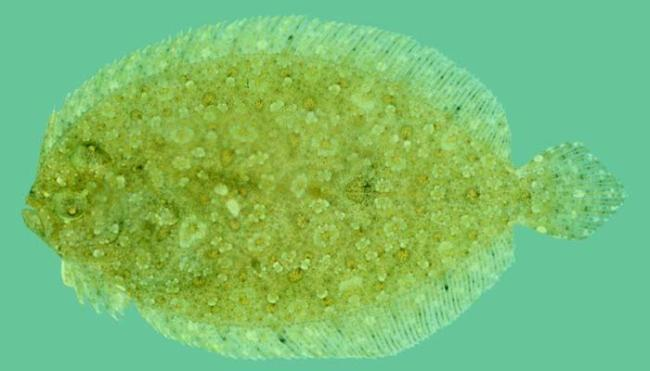fish: (24, 15, 630, 360)
